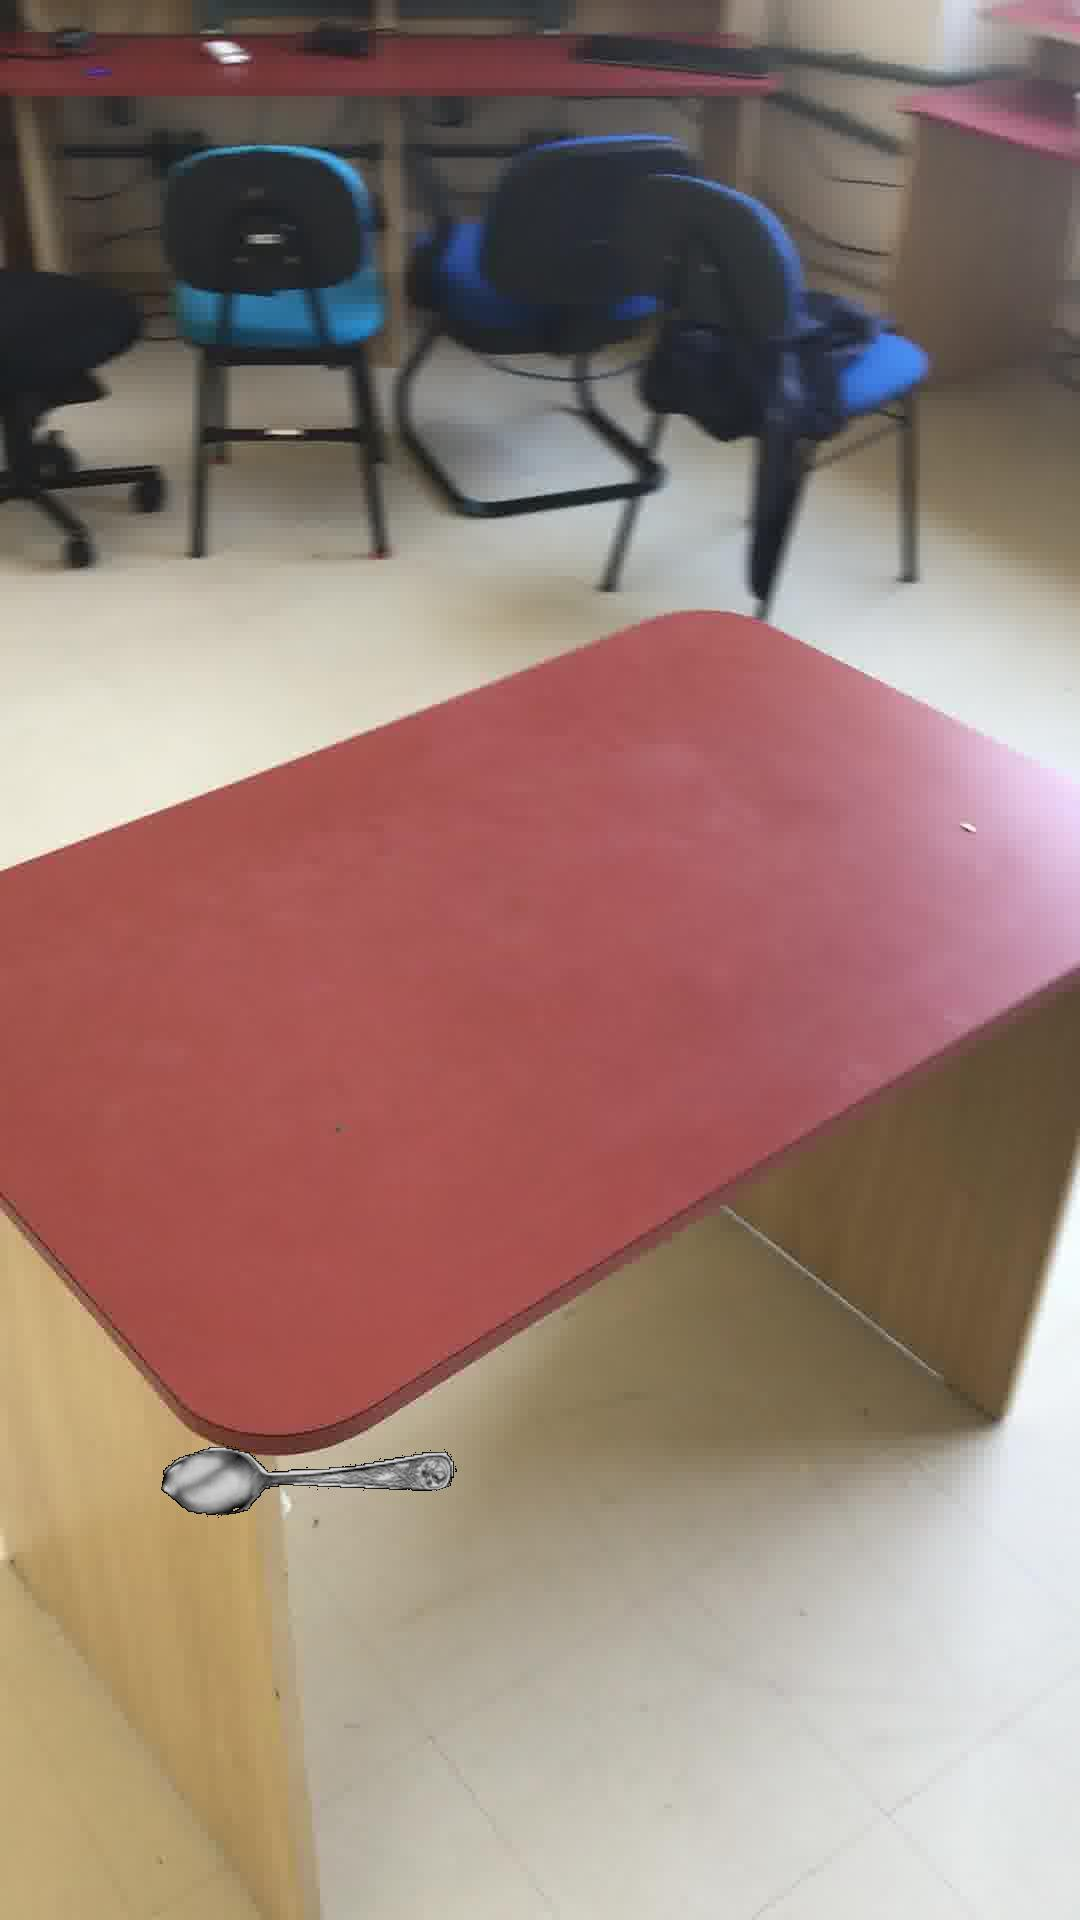spoon: (160, 1445, 452, 1514)
